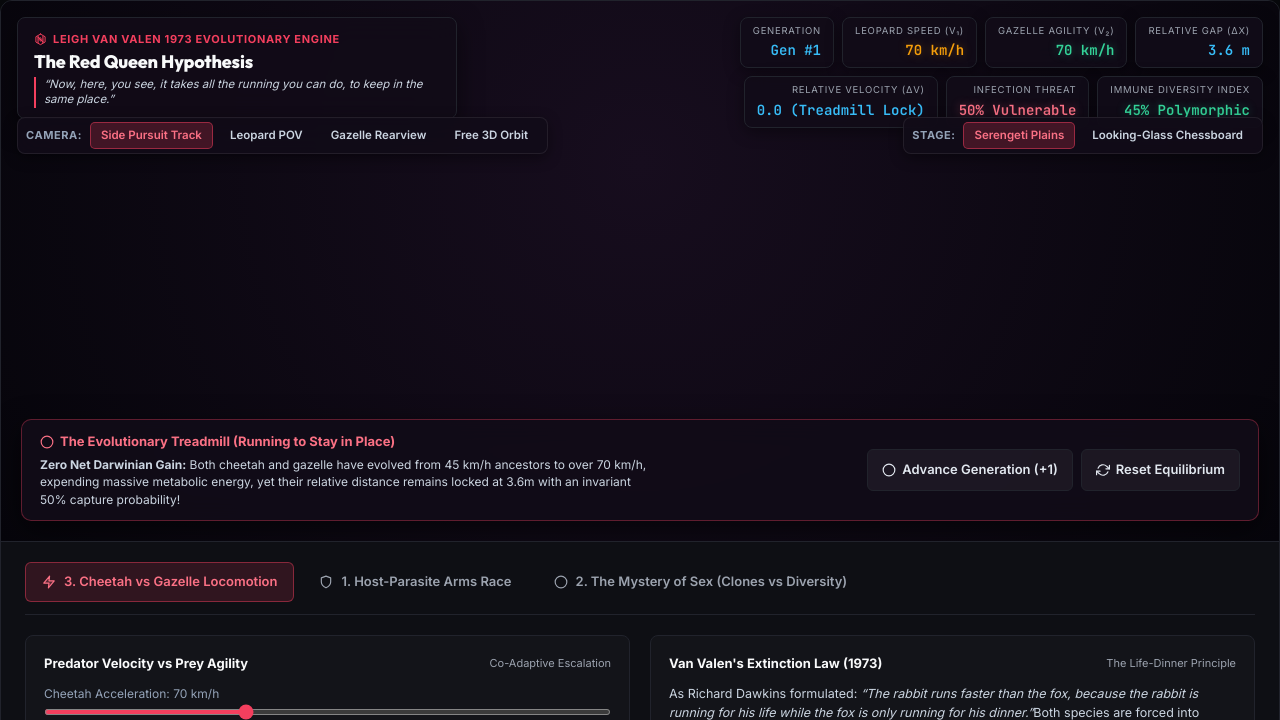
Scenario: RedQueen3DLab › switches to Host-Parasite tab and adjusts host mutation rate
The width and height of the screenshot is (1280, 720).
Click the tab "1. Host-Parasite Arms Race" at (416, 582), box [302, 562, 528, 602]
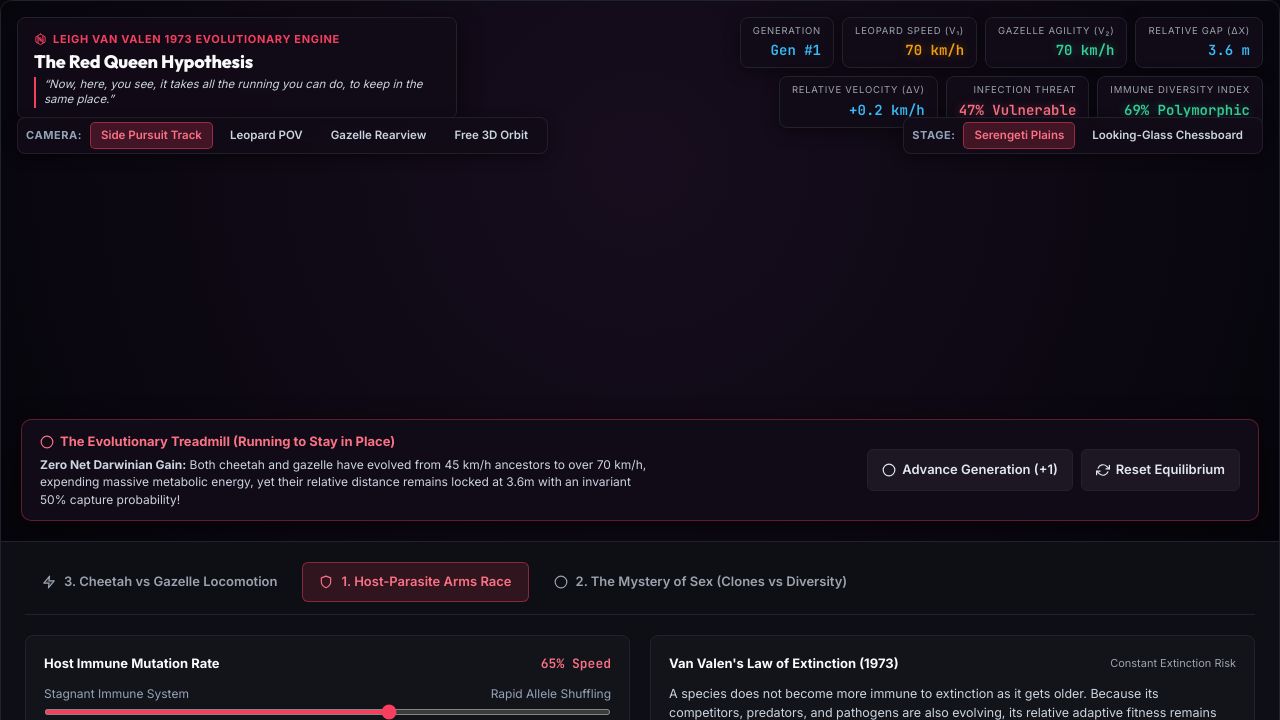
Expected: the text "Host Immune Mutation Rate" is shown, [44, 654, 220, 673]
Set the slider named "Host Mutation Rate" to "90" at (542, 712), box [44, 709, 611, 715]
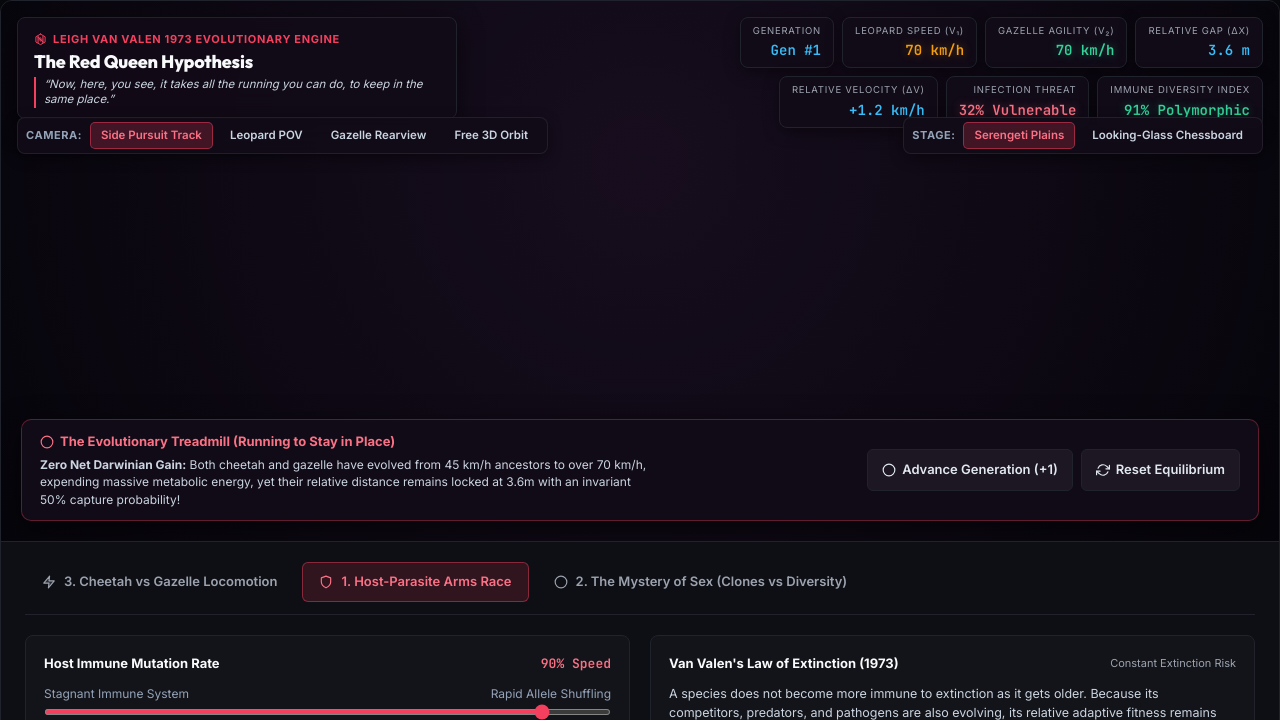
Expected: the text "90% Speed" is shown, [541, 654, 611, 673]
